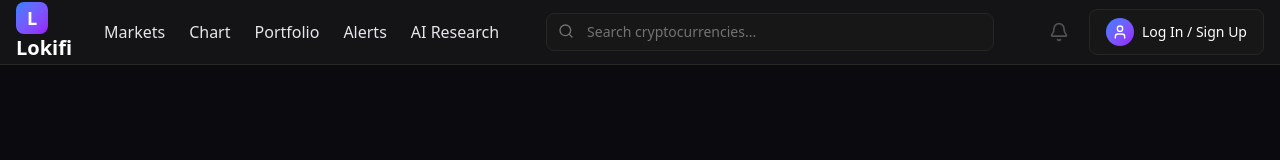
it: GlobalHeader › Search Results › should show no results message when search returns empty
Type "xyz123" into the field with placeholder "Search cryptocurrencies..." at coordinates (770, 32), box [546,13,994,51]
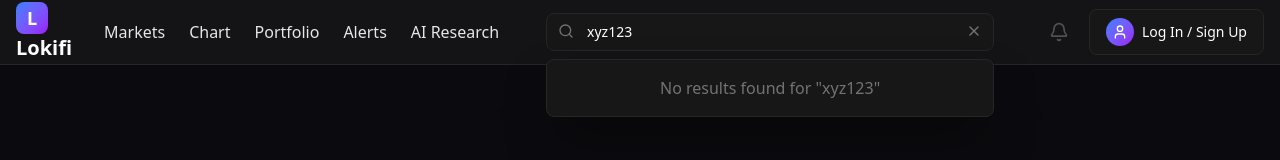
Check: the text "No results found for \"xyz123\"" is shown, box [660,77,880,99]
